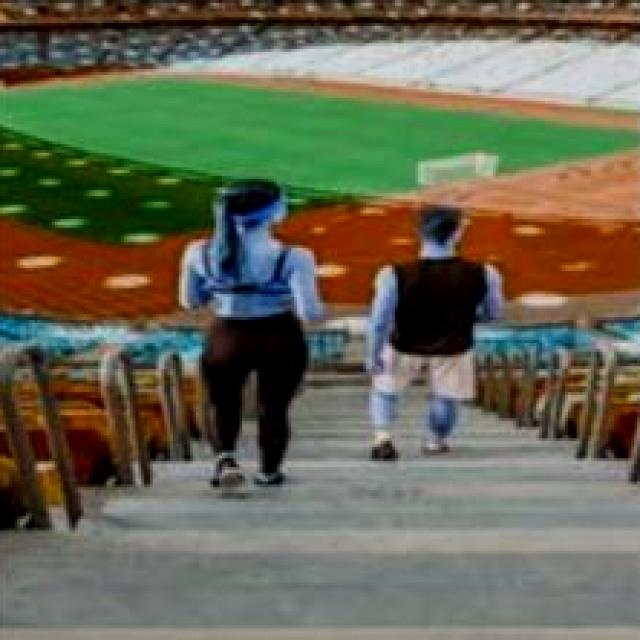downstair: (171, 459, 526, 624)
